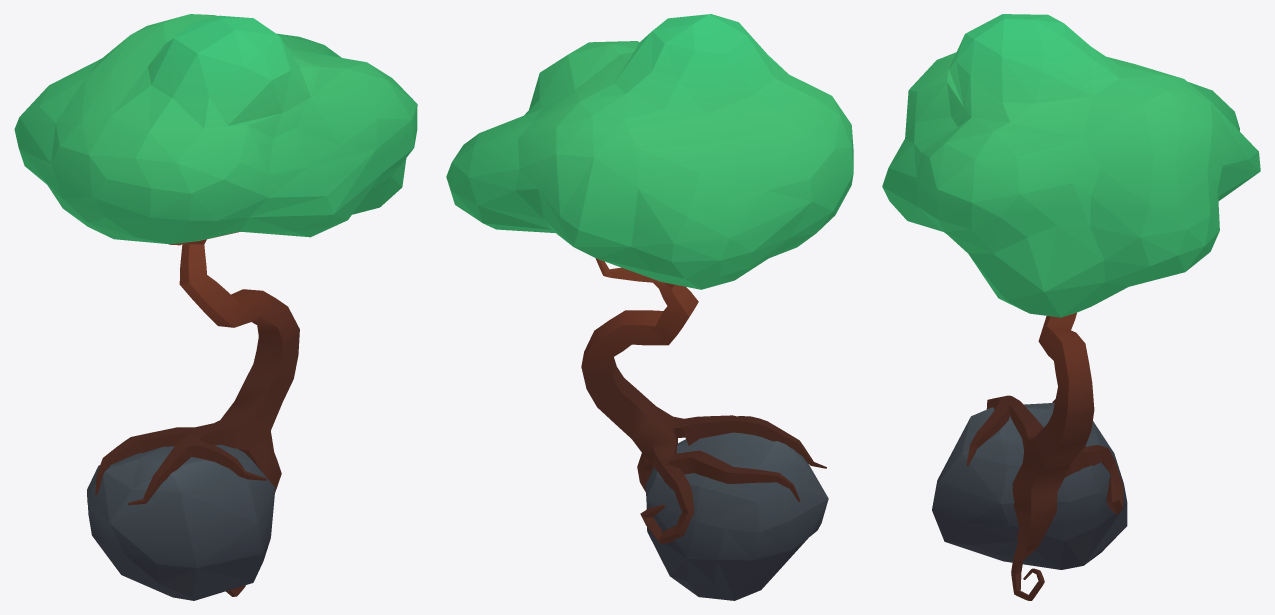
3 renders of one model, left to right at view 1: azimuth 30°, elevation 25°; view 2: azimuth 150°, elevation 25°; view 3: azimuth 270°, elevation 25°, orthographic. The views are drawn at different scales.
Visible parts, largest first — view 1: Mball.009_1, Roundcube_0; view 2: Mball.009_1, Roundcube_0; view 3: Mball.009_1, Roundcube_0.
Part boxes in pixels (box(x1,y1,x2,y2)): Mball.009_1: box(14, 14, 417, 596); Roundcube_0: box(87, 444, 275, 600); Mball.009_1: box(446, 14, 853, 544); Roundcube_0: box(645, 432, 828, 600); Mball.009_1: box(882, 14, 1260, 600); Roundcube_0: box(932, 403, 1127, 569).
Size of the model in its own units: 4.67 by 7.59 by 4.54.
3 materials, 3 textured.
